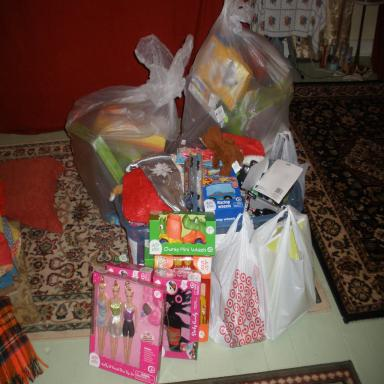plasticbag: (64, 33, 194, 226), (178, 0, 294, 156), (255, 207, 316, 340), (209, 210, 266, 347)
